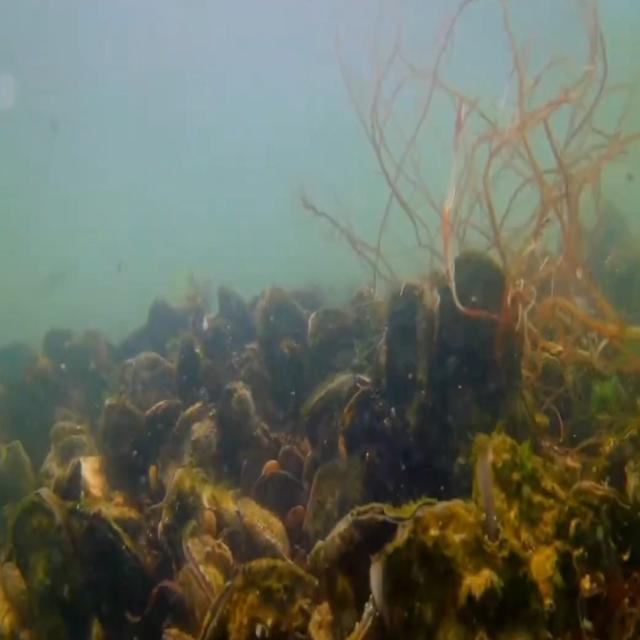Oyster-Closed: (303, 494, 437, 640), (554, 480, 640, 640), (71, 505, 159, 640), (157, 465, 211, 577), (182, 536, 227, 640), (56, 456, 83, 502)
Oyster-Indeterminate: (369, 499, 548, 640), (435, 248, 523, 442), (9, 486, 80, 640), (383, 280, 441, 440), (302, 458, 368, 558), (100, 394, 149, 506), (0, 439, 37, 550), (234, 496, 293, 562)
Oyster-Open: (470, 430, 570, 640), (302, 372, 379, 460), (168, 401, 220, 466)
